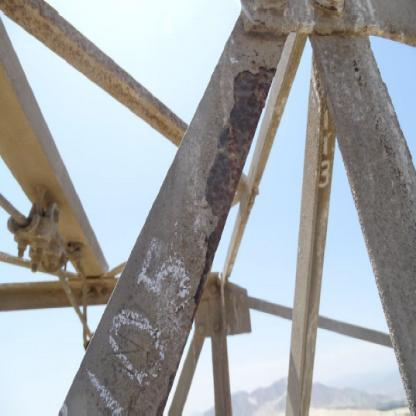rust: (194, 69, 277, 305)
